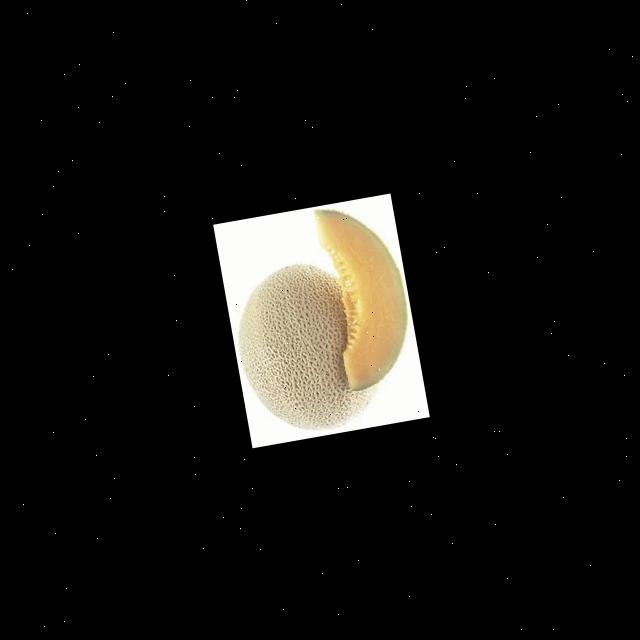Hami Melon: (226, 254, 380, 438), (316, 199, 418, 393)
